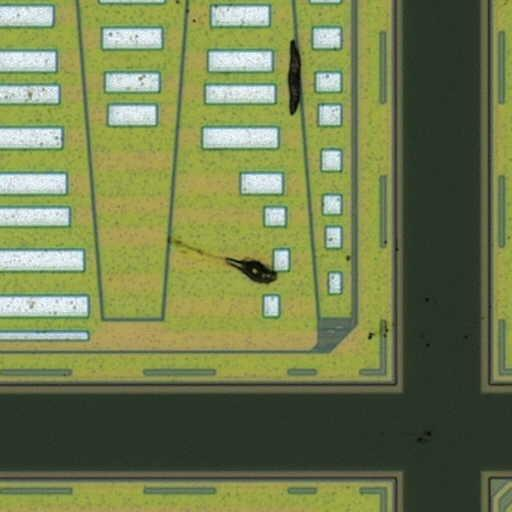PO CONTAMINATION: (151, 1, 482, 453)
